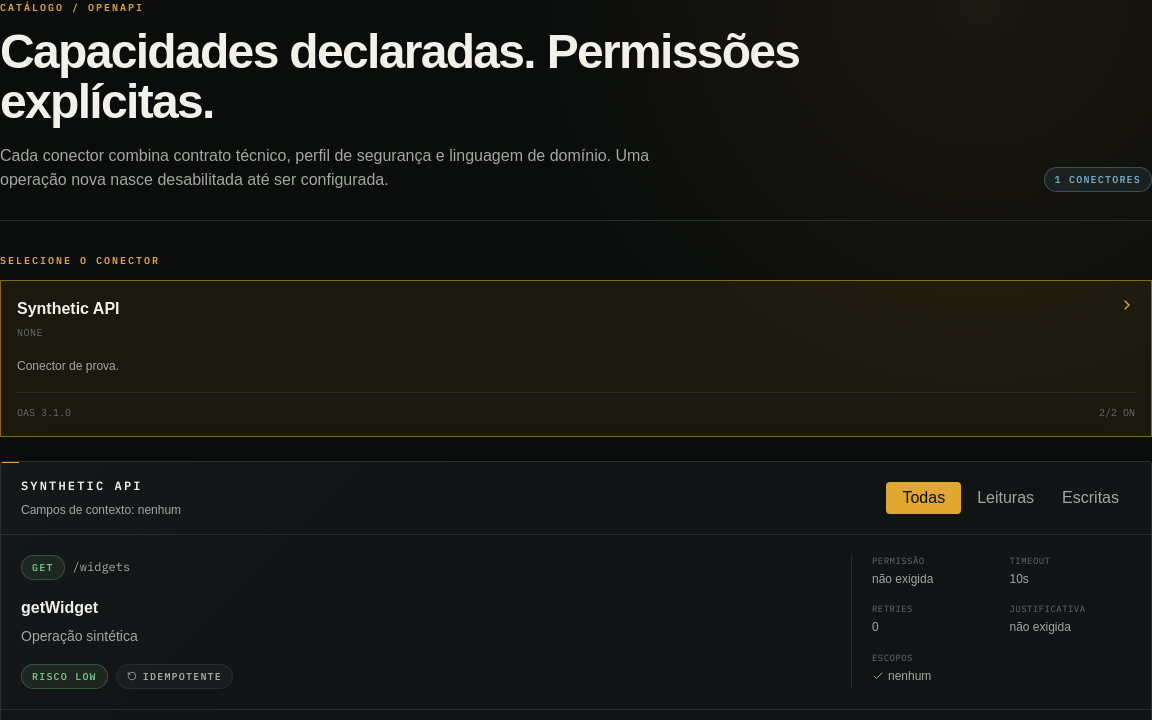
Test: página de conectores › expõe filtros acessíveis e separa leituras de escritas
Expected: the heading "Capacidades declaradas. Permissões explícitas." is shown, [0,27,896,128]
Expected: the heading "getWidget" is shown, [21,599,98,616]
Click the button "Leituras" at (1006, 498), box [965,482,1046,514]
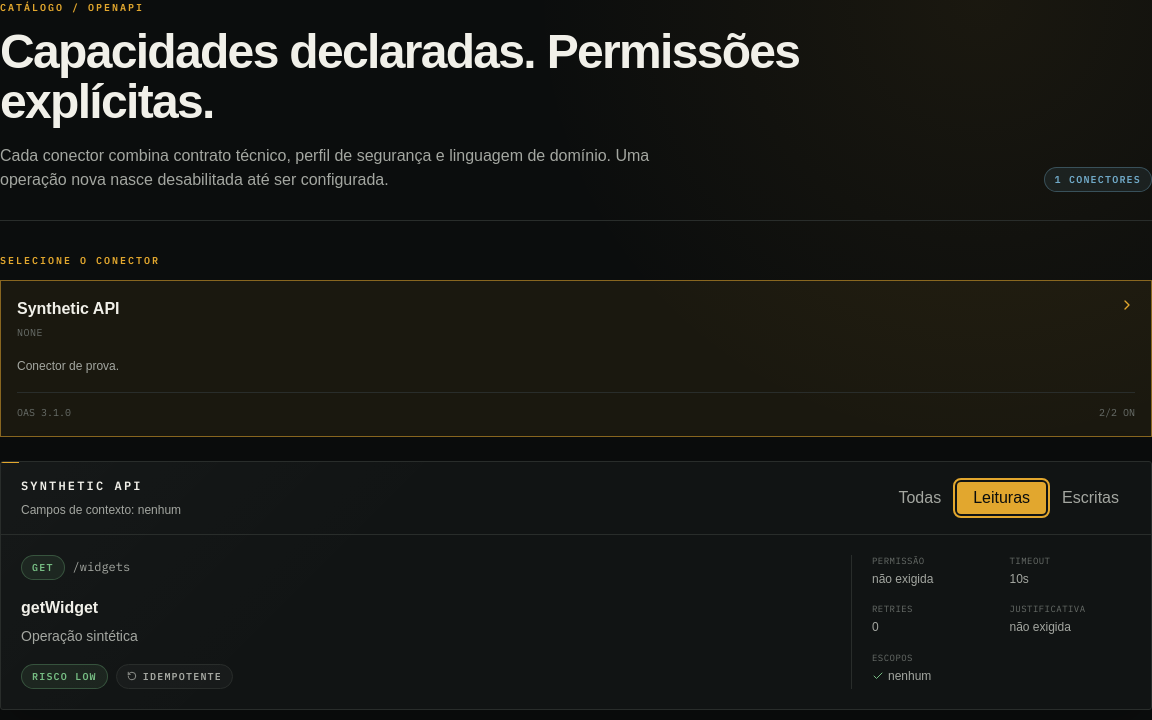
Expected: the heading "getWidget" is shown, [21,599,98,616]
Expected: the text "updateWidget" is not shown
Click the button "Escritas" at (1091, 498), box [1050,482,1131,514]
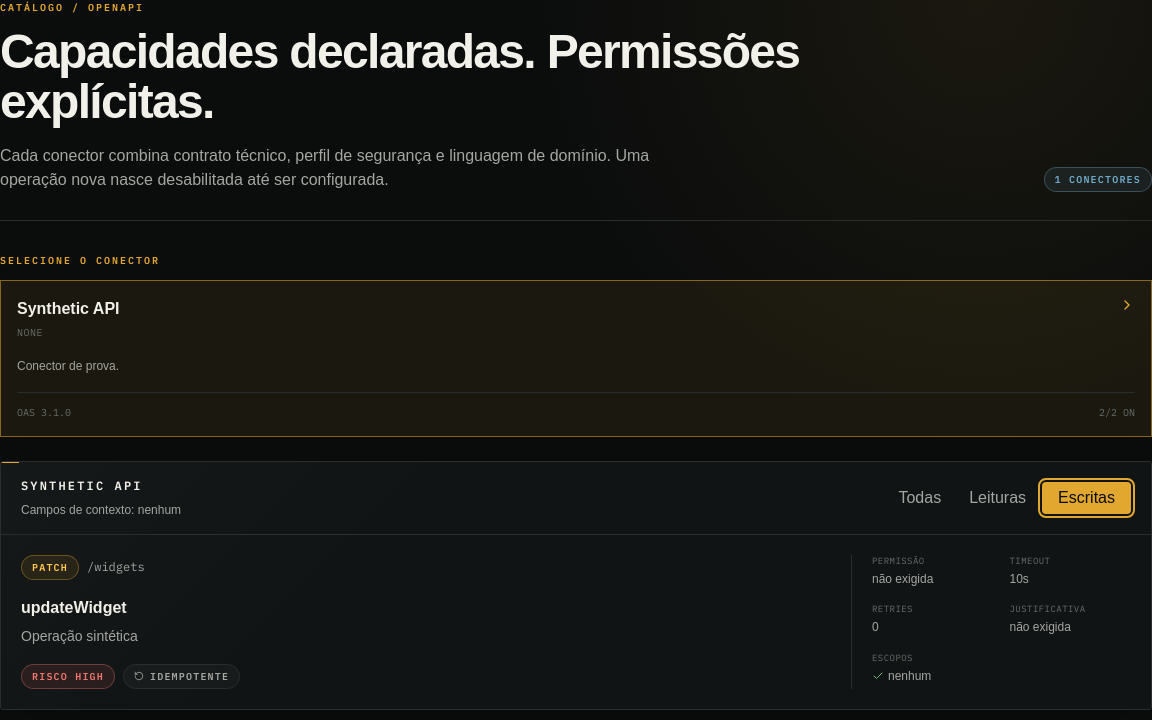
Expected: the heading "getWidget" is gone
Expected: the heading "updateWidget" is shown, [21,599,127,616]
